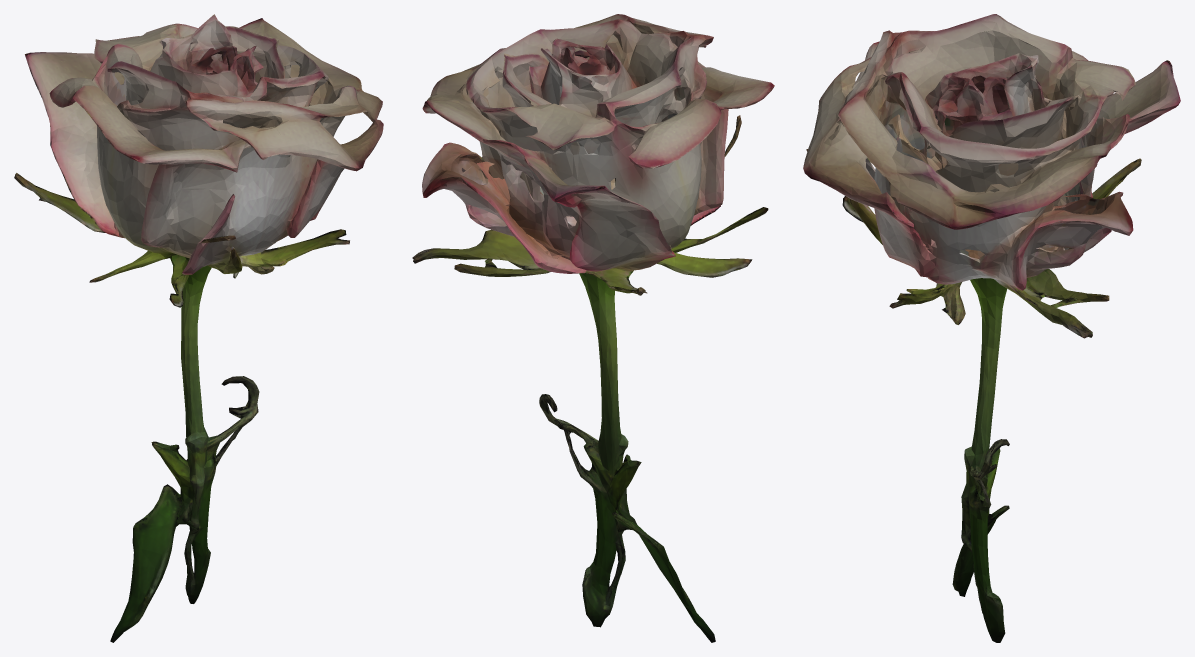
3 views of the same model, side by side, from view 1: azimuth 30°, elevation 25°; view 2: azimuth 150°, elevation 25°; view 3: azimuth 270°, elevation 25° (orthographic). The views are drawn at different scales.
Parts seen in each view (by area): view 1: world; view 2: world; view 3: world.
Boxes of the visible parts, x1=… form: world: x1=14, y1=14, x2=383, y2=642; world: x1=412, y1=14, x2=774, y2=642; world: x1=803, y1=14, x2=1180, y2=642.
Size of the model in its own units: 0.527 by 0.979 by 0.5572.
Materials: 1 (1 with a texture image).
